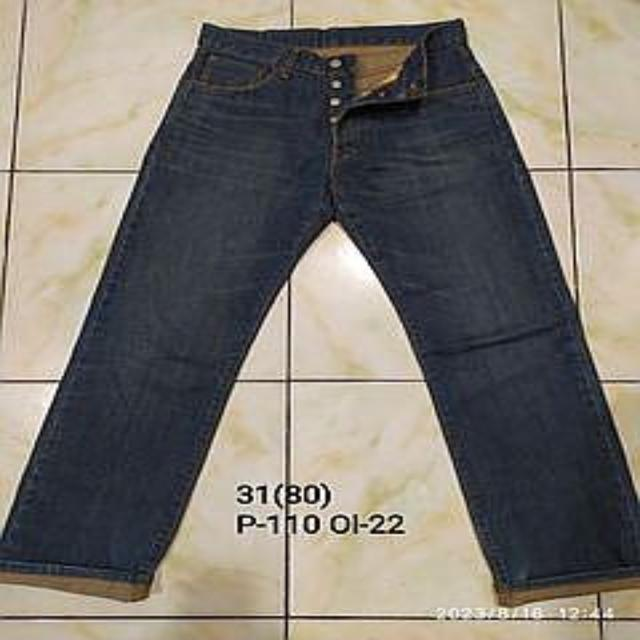TROUSER: (0, 25, 640, 603)
